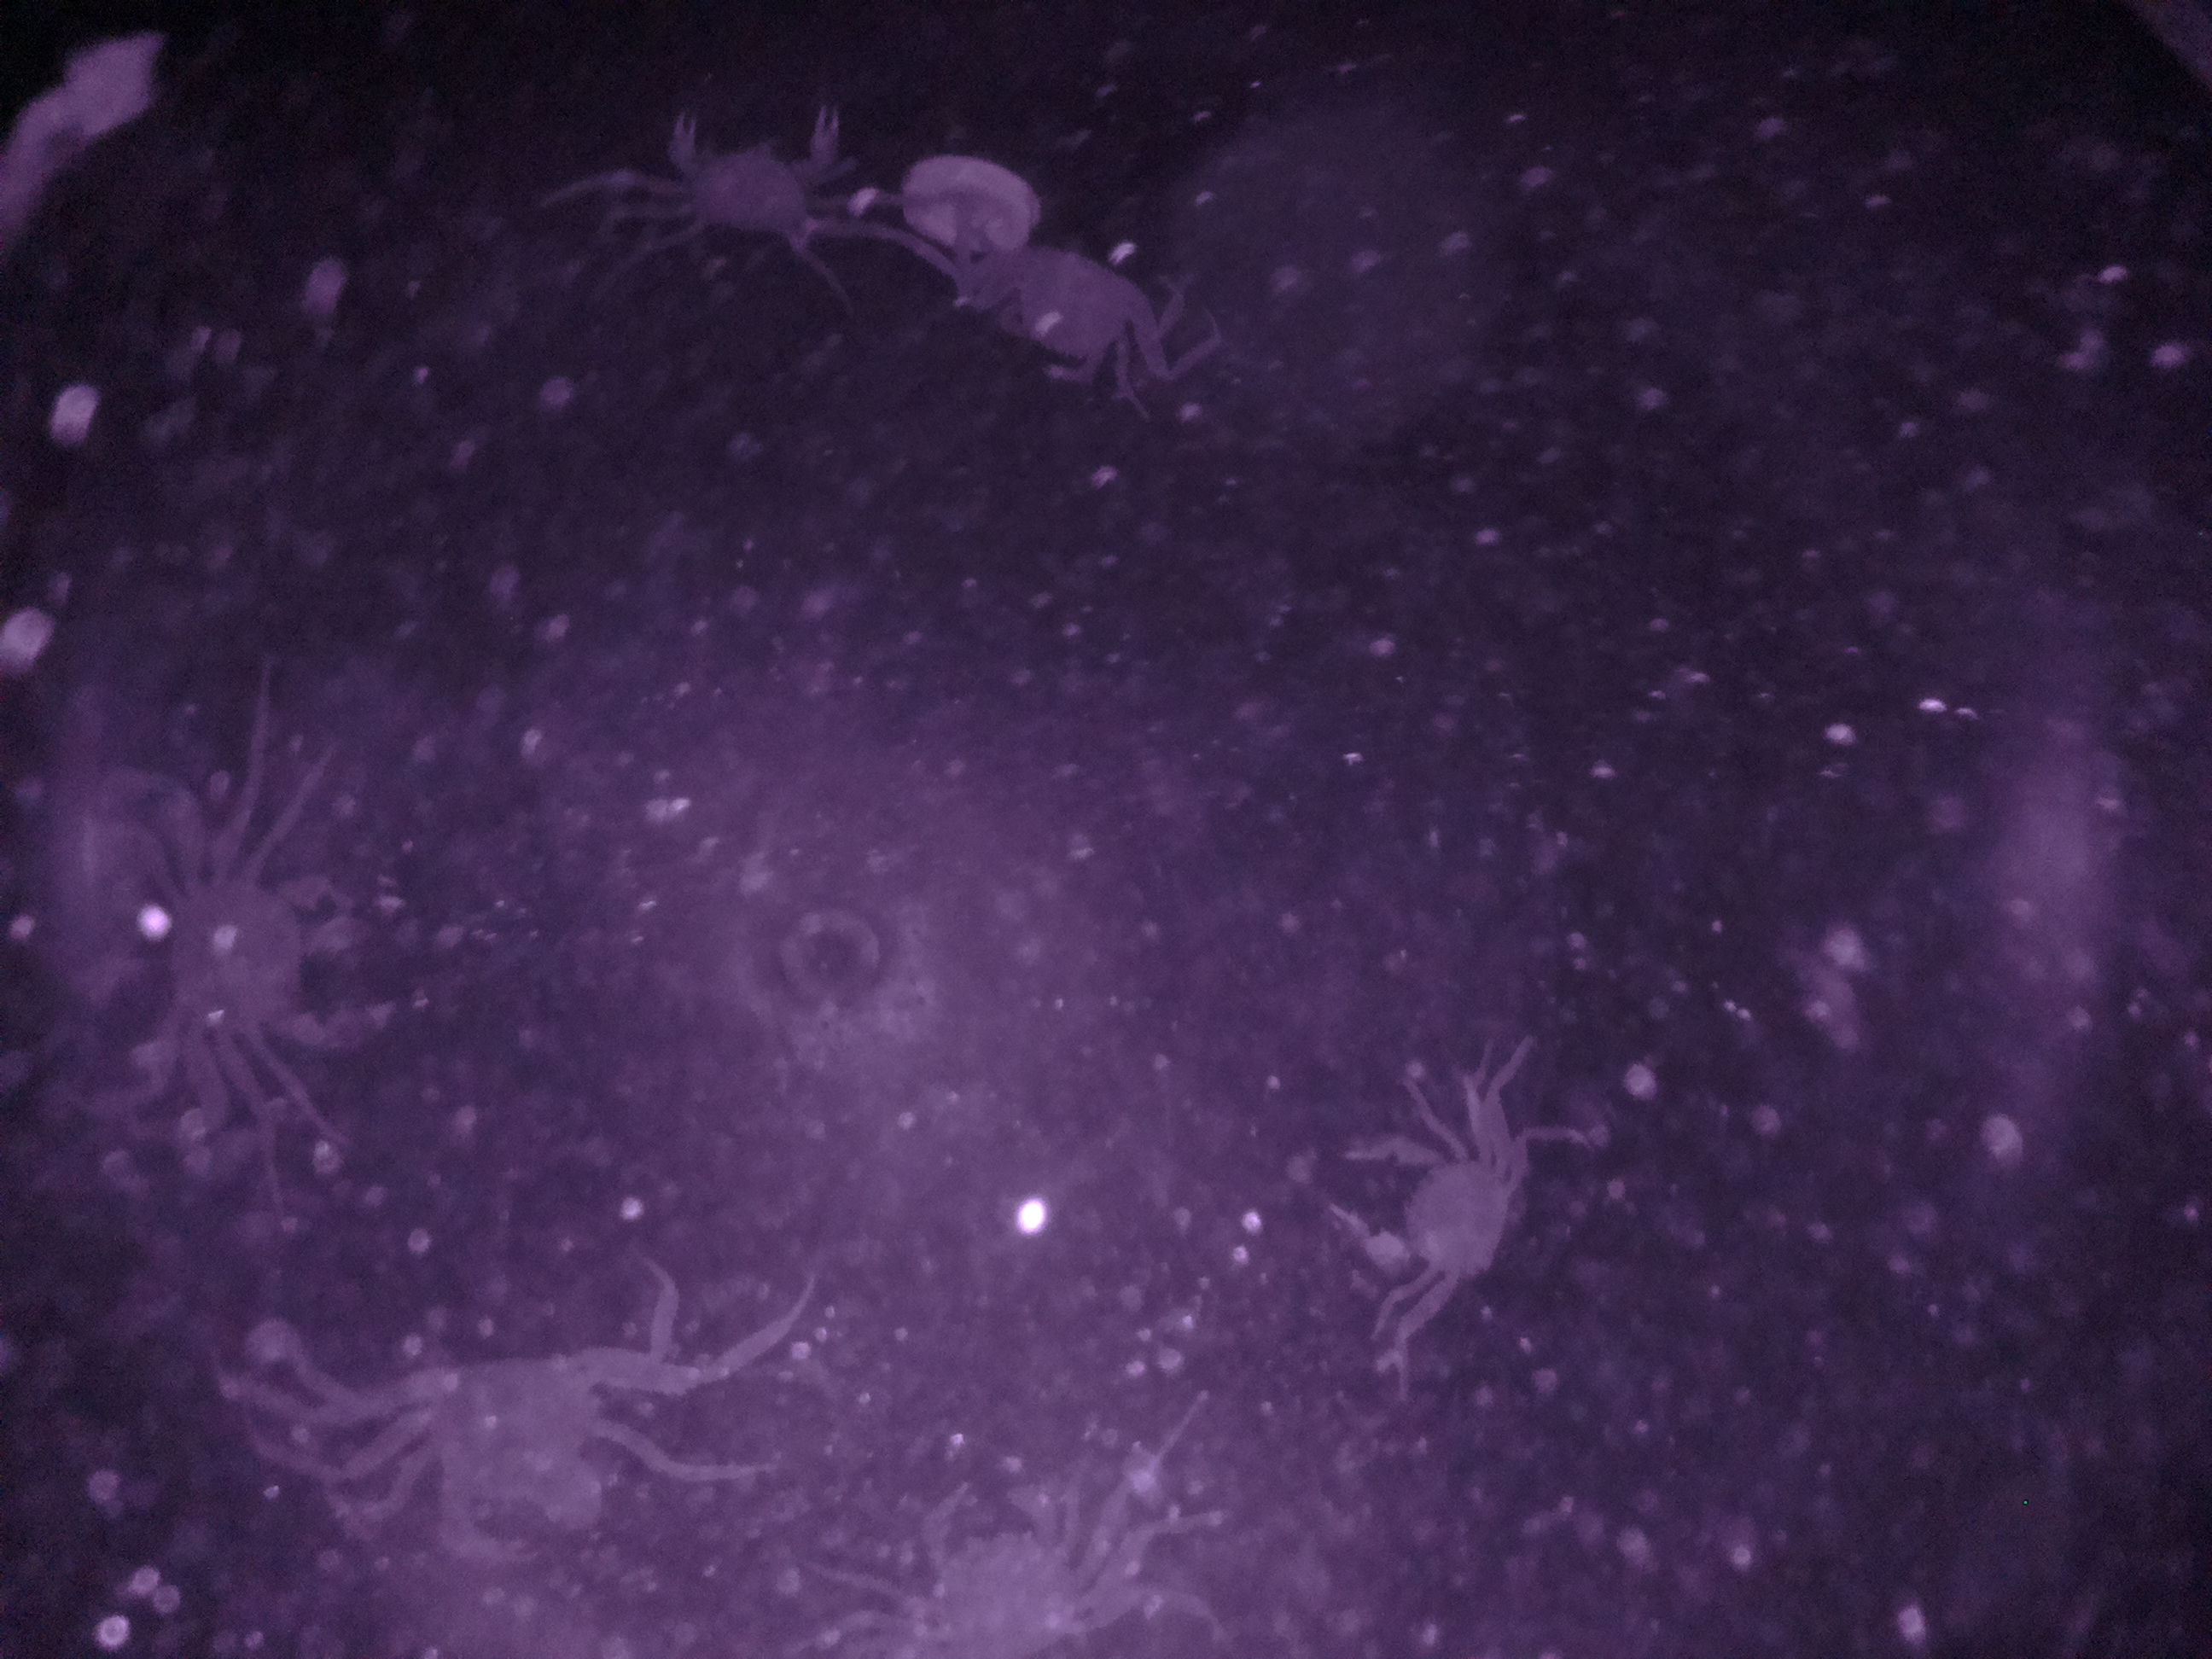Crab: (622, 71, 864, 265)
